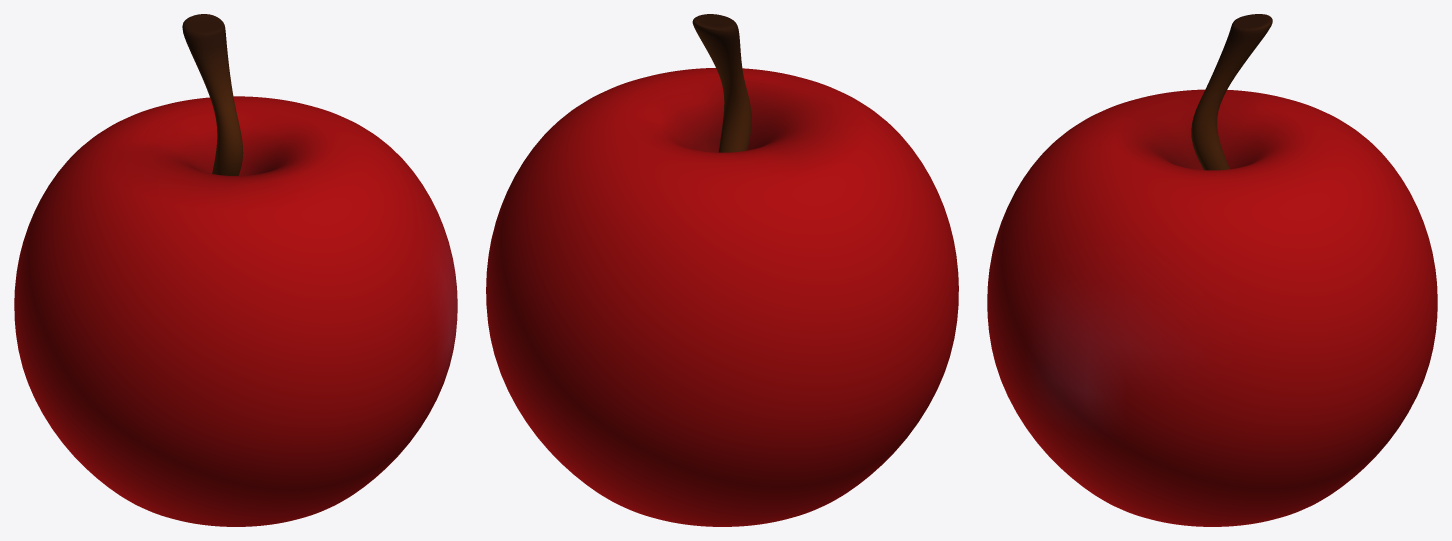
File: Manzana.fbx
3 renders of one model, left to right at view 1: azimuth 30°, elevation 25°; view 2: azimuth 150°, elevation 25°; view 3: azimuth 270°, elevation 25°, orthographic. The views are drawn at different scales.
Parts seen in each view (by area): view 1: Manzana, Ramo manzana; view 2: Manzana, Ramo manzana; view 3: Manzana, Ramo manzana.
Boxes of the visible parts, box(x1,y1,x2,y2) form: Manzana: box(14, 96, 457, 526); Ramo manzana: box(182, 14, 243, 175); Manzana: box(486, 68, 958, 526); Ramo manzana: box(692, 14, 751, 152); Manzana: box(987, 89, 1437, 526); Ramo manzana: box(1191, 14, 1272, 170).
Size of the model in its own units: 54.18 by 61.13 by 54.18.
